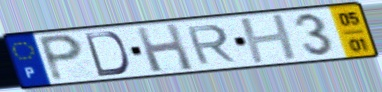3: (293, 12, 338, 59)
D: (83, 30, 132, 78)
H: (237, 12, 302, 66), (133, 22, 197, 74)
P: (35, 32, 86, 84)
R: (183, 23, 239, 67)
